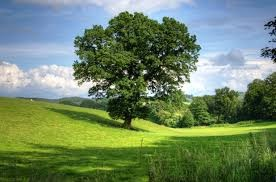grass: (0, 97, 120, 178), (122, 123, 272, 179)
tree: (121, 113, 131, 127)
